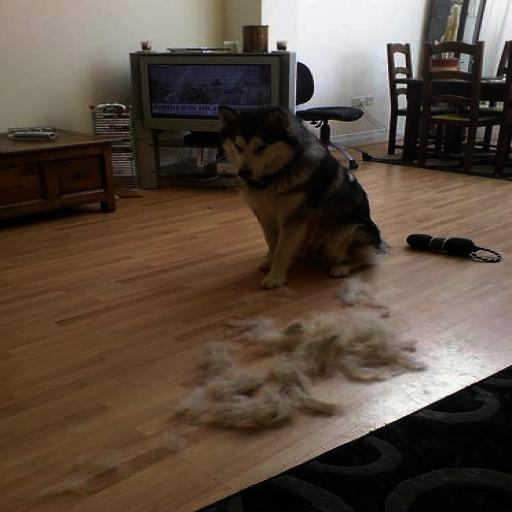dog_face: (210, 100, 303, 185)
